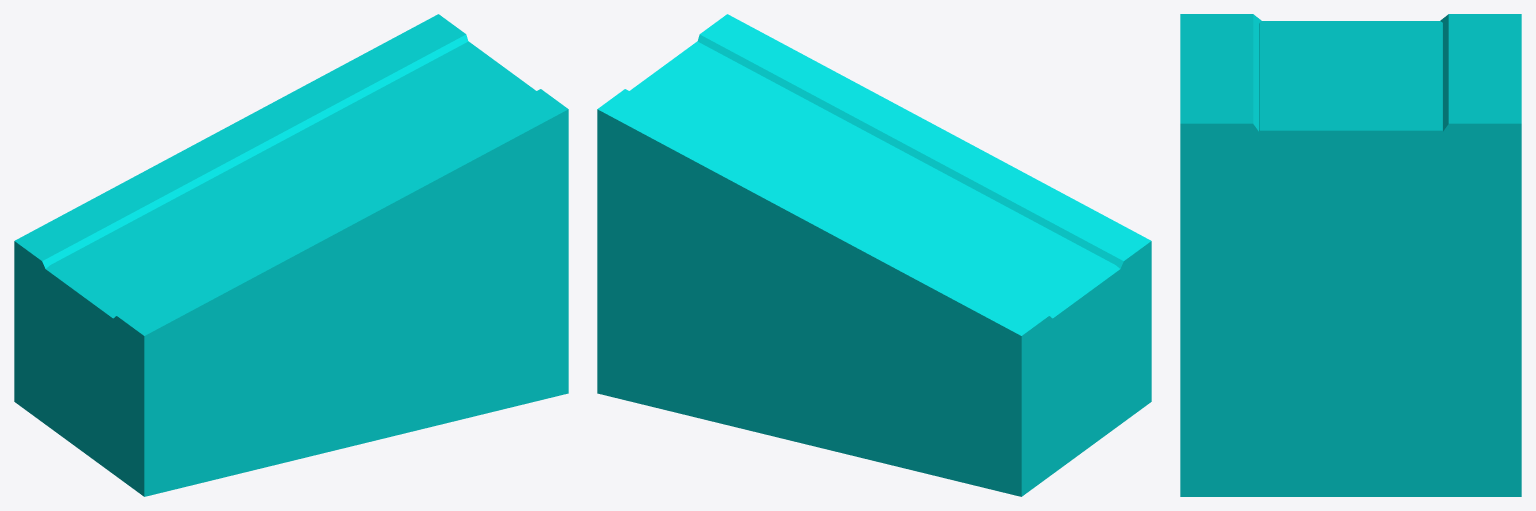
File: SM_Bld_Bridge_L_Ramp_01_Collision.fbx
3 renders of one model, left to right at view 1: azimuth 30°, elevation 25°; view 2: azimuth 150°, elevation 25°; view 3: azimuth 270°, elevation 25°, orthographic. The views are drawn at different scales.
Visible parts, largest first — view 1: SM_Bld_Bridge_L_Ramp_01_Collision; view 2: SM_Bld_Bridge_L_Ramp_01_Collision; view 3: SM_Bld_Bridge_L_Ramp_01_Collision.
Boxes of the visible parts, x1,y1,x2,y2 form: SM_Bld_Bridge_L_Ramp_01_Collision: (14,14,568,496); SM_Bld_Bridge_L_Ramp_01_Collision: (597,14,1151,496); SM_Bld_Bridge_L_Ramp_01_Collision: (1180,14,1521,496).
Bounding box in the file's own units: 938 × 601 × 498.
